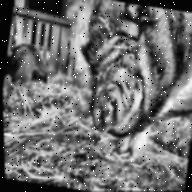boar: (50, 0, 192, 166), (3, 41, 53, 95)
